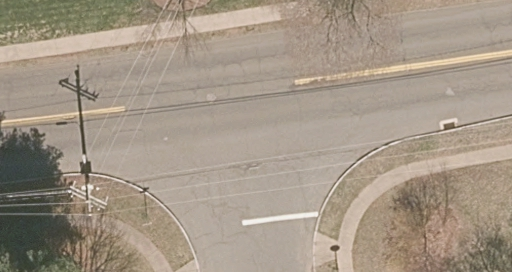DT: (65, 178, 109, 216)
